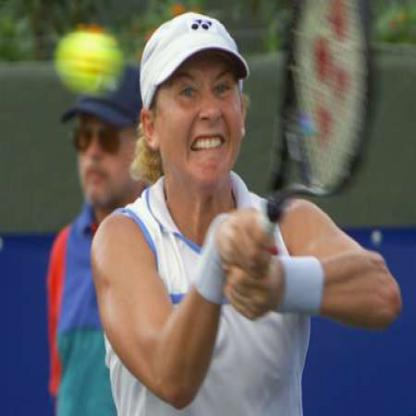face: (154, 25, 248, 188), (79, 82, 142, 209)
